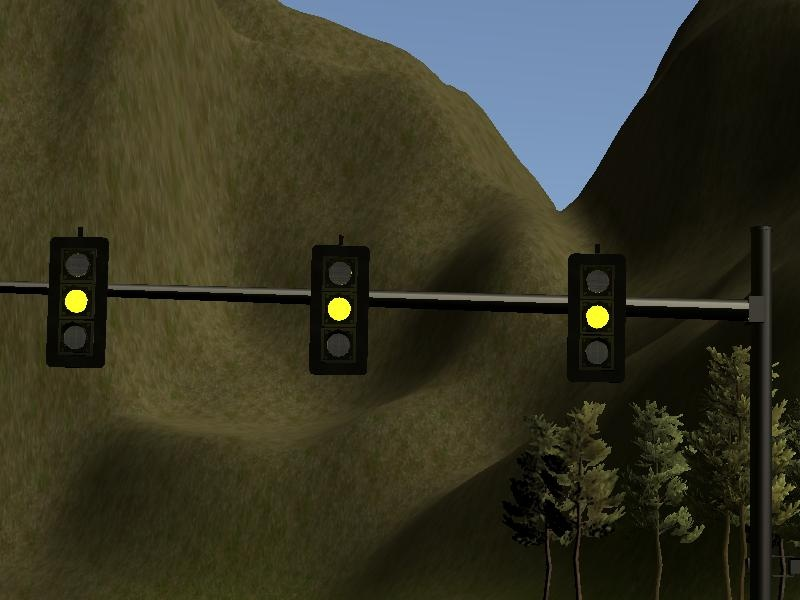YELLOW: (306, 242, 372, 377), (563, 249, 629, 384), (42, 239, 109, 370)
